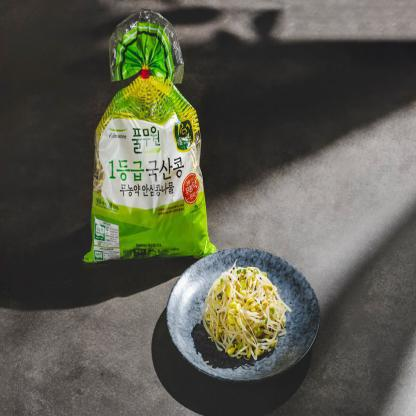bean sprouts: (219, 278, 280, 354)
